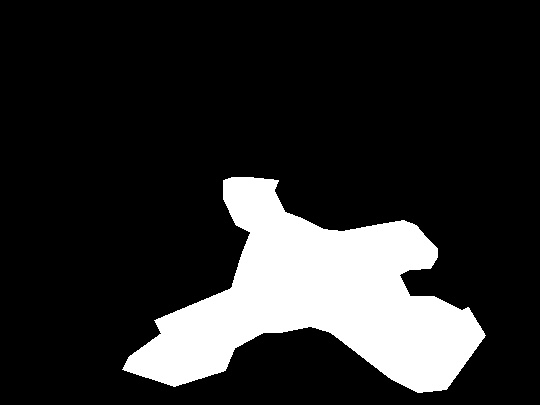Fire: (221, 179, 442, 394)
